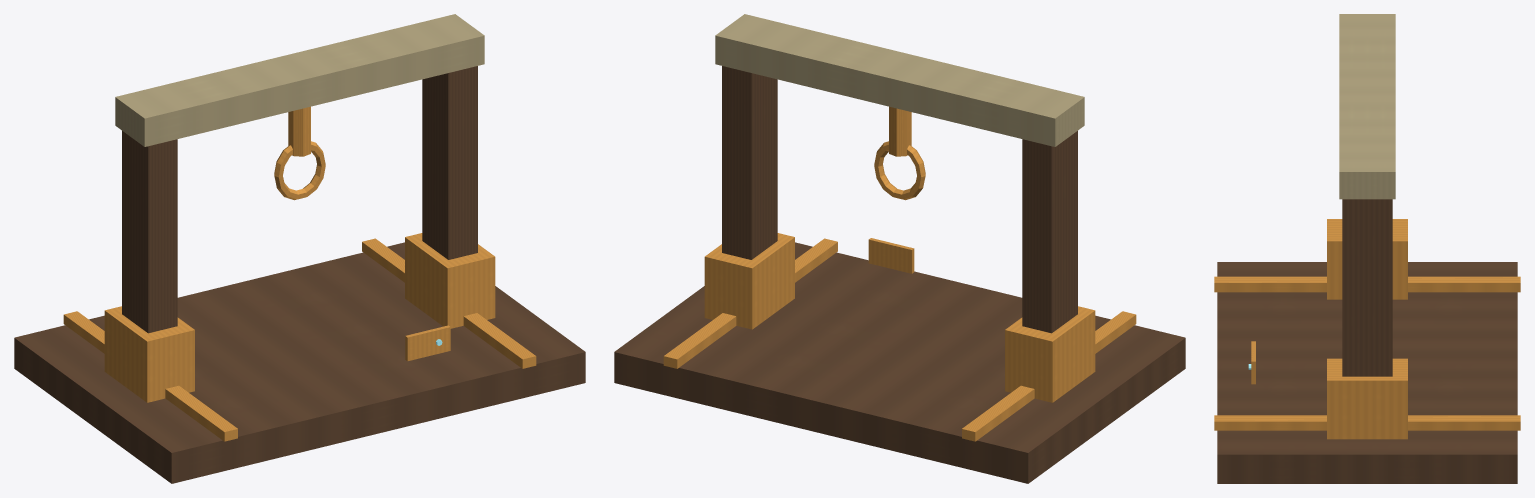
The model's file is atlas100-s012-a02.lod1.glb.
3 renders of one model, left to right at view 1: azimuth 30°, elevation 25°; view 2: azimuth 150°, elevation 25°; view 3: azimuth 270°, elevation 25°, orthographic. The views are drawn at different scales.
Visible parts, largest first — view 1: atlas100-s012-a02:part-000, atlas100-s012-a02:part-007, atlas100-s012-a02:part-003, atlas100-s012-a02:part-005, atlas100-s012-a02:part-004, atlas100-s012-a02:part-006, atlas100-s012-a02:part-002, atlas100-s012-a02:part-001, atlas100-s012-a02:part-009, atlas100-s012-a02:part-010, atlas100-s012-a02:part-008; view 2: atlas100-s012-a02:part-000, atlas100-s012-a02:part-007, atlas100-s012-a02:part-003, atlas100-s012-a02:part-005, atlas100-s012-a02:part-004, atlas100-s012-a02:part-006, atlas100-s012-a02:part-002, atlas100-s012-a02:part-001, atlas100-s012-a02:part-010, atlas100-s012-a02:part-009, atlas100-s012-a02:part-008; view 3: atlas100-s012-a02:part-000, atlas100-s012-a02:part-007, atlas100-s012-a02:part-005, atlas100-s012-a02:part-006, atlas100-s012-a02:part-001, atlas100-s012-a02:part-002, atlas100-s012-a02:part-004.
Boxes of the visible parts, left/top/right/bottom form: atlas100-s012-a02:part-000: left=14, top=242, right=585, bottom=483; atlas100-s012-a02:part-007: left=115, top=14, right=484, bottom=146; atlas100-s012-a02:part-003: left=122, top=131, right=177, bottom=333; atlas100-s012-a02:part-005: left=422, top=66, right=477, bottom=259; atlas100-s012-a02:part-004: left=104, top=306, right=194, bottom=402; atlas100-s012-a02:part-006: left=405, top=233, right=495, bottom=328; atlas100-s012-a02:part-002: left=362, top=238, right=536, bottom=368; atlas100-s012-a02:part-001: left=63, top=311, right=237, bottom=441; atlas100-s012-a02:part-009: left=274, top=141, right=325, bottom=200; atlas100-s012-a02:part-010: left=405, top=325, right=450, bottom=361; atlas100-s012-a02:part-008: left=288, top=106, right=310, bottom=156; atlas100-s012-a02:part-000: left=614, top=242, right=1185, bottom=483; atlas100-s012-a02:part-007: left=715, top=14, right=1084, bottom=146; atlas100-s012-a02:part-003: left=1022, top=131, right=1077, bottom=333; atlas100-s012-a02:part-005: left=722, top=66, right=777, bottom=259; atlas100-s012-a02:part-004: left=1005, top=306, right=1095, bottom=402; atlas100-s012-a02:part-006: left=704, top=233, right=794, bottom=329; atlas100-s012-a02:part-002: left=663, top=238, right=837, bottom=368; atlas100-s012-a02:part-001: left=962, top=311, right=1136, bottom=441; atlas100-s012-a02:part-010: left=868, top=238, right=914, bottom=273; atlas100-s012-a02:part-009: left=874, top=141, right=925, bottom=200; atlas100-s012-a02:part-008: left=889, top=106, right=911, bottom=156; atlas100-s012-a02:part-000: left=1217, top=262, right=1517, bottom=483; atlas100-s012-a02:part-007: left=1339, top=14, right=1395, bottom=199; atlas100-s012-a02:part-005: left=1342, top=199, right=1392, bottom=376; atlas100-s012-a02:part-006: left=1327, top=358, right=1407, bottom=439; atlas100-s012-a02:part-001: left=1214, top=276, right=1520, bottom=292; atlas100-s012-a02:part-002: left=1214, top=415, right=1520, bottom=430; atlas100-s012-a02:part-004: left=1327, top=219, right=1407, bottom=299.
Bounding box in the file's own units: 3.64 × 2.6 × 2.45.
4 materials, 4 textured.
